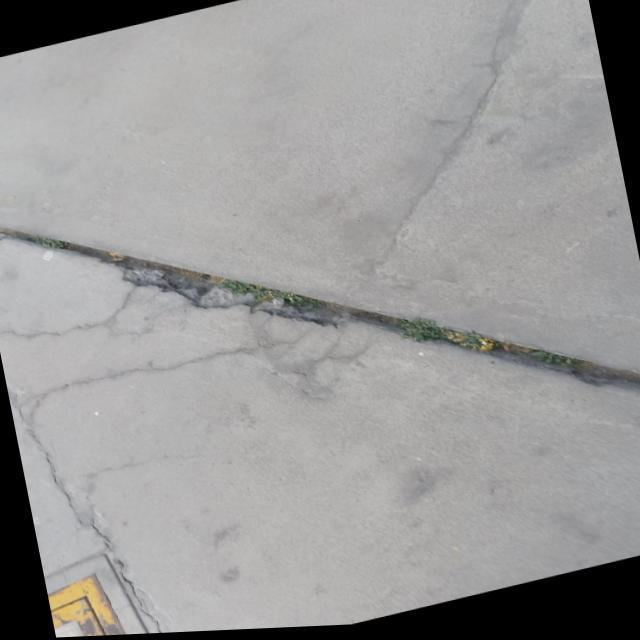hole: (106, 215, 377, 350)
